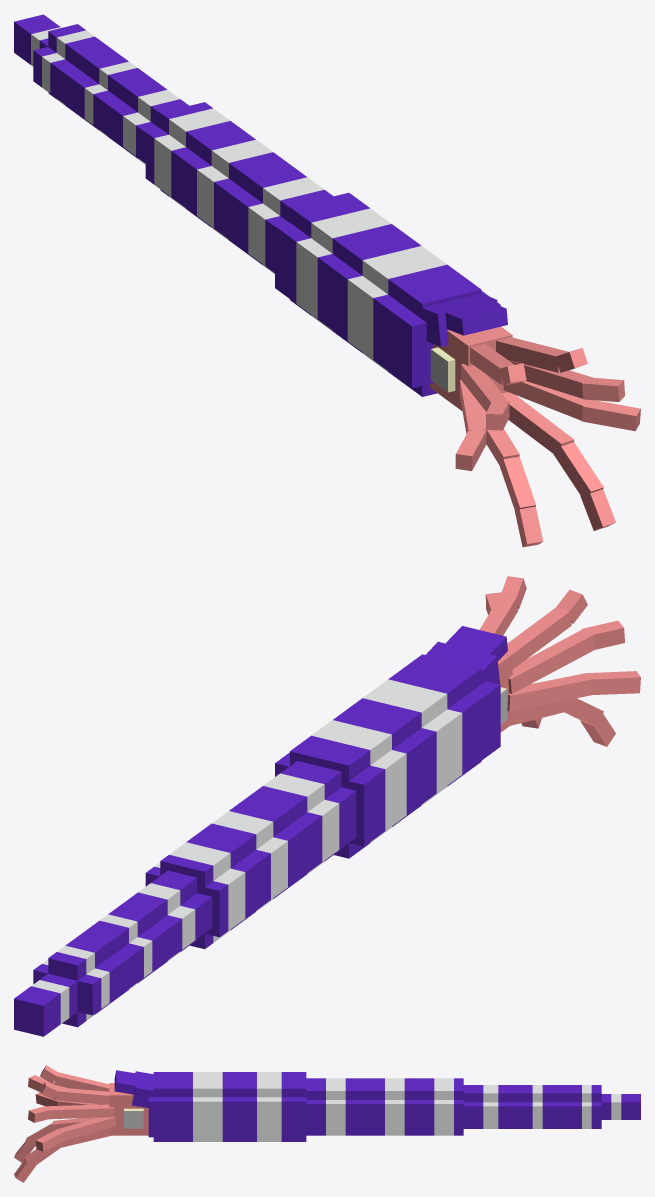
The model's file is cameroceras.obj.
3 renders of one model, top to bottom at view 1: azimuth 30°, elevation 25°; view 2: azimuth 150°, elevation 25°; view 3: azimuth 270°, elevation 25°, orthographic. The views are drawn at different scales.
Visible parts, largest first — view 1: LowerTorso, RightUpperLeg, LeftUpperLeg; view 2: LowerTorso, LeftUpperLeg, RightUpperLeg; view 3: LowerTorso, RightUpperLeg, LeftUpperLeg, LowerTorso_decal1.
Part boxes in pixels (x1,y1,x2,y2): LowerTorso: (14, 14, 512, 410); RightUpperLeg: (496, 337, 640, 530); LeftUpperLeg: (455, 343, 543, 547); LowerTorso: (14, 626, 512, 1036); LeftUpperLeg: (506, 589, 640, 746); RightUpperLeg: (479, 576, 541, 728); LowerTorso: (109, 1070, 640, 1141); RightUpperLeg: (14, 1082, 115, 1182); LeftUpperLeg: (14, 1065, 109, 1162); LowerTorso_decal1: (124, 1111, 143, 1128).
Size of the model in its own units: 6.25 by 5.36 by 31.84.
